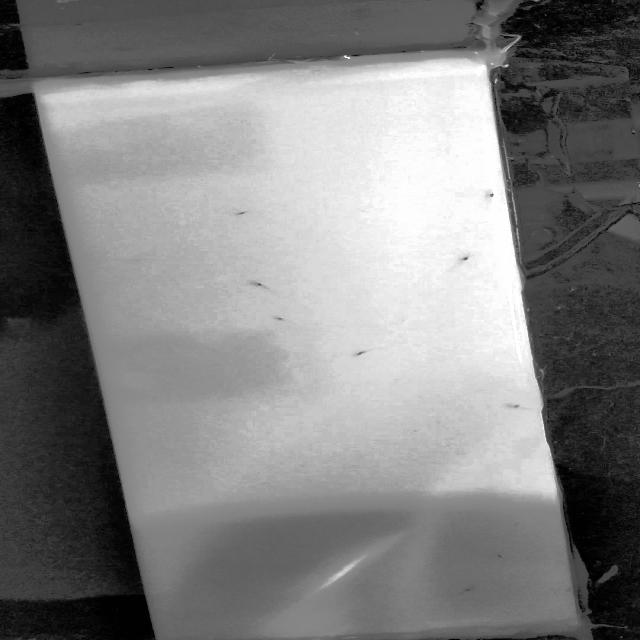shrimp: (455, 583, 490, 597), (348, 345, 382, 358), (491, 549, 512, 561), (505, 402, 530, 411), (251, 281, 273, 291), (457, 252, 475, 264), (234, 210, 254, 217), (273, 316, 292, 323)
